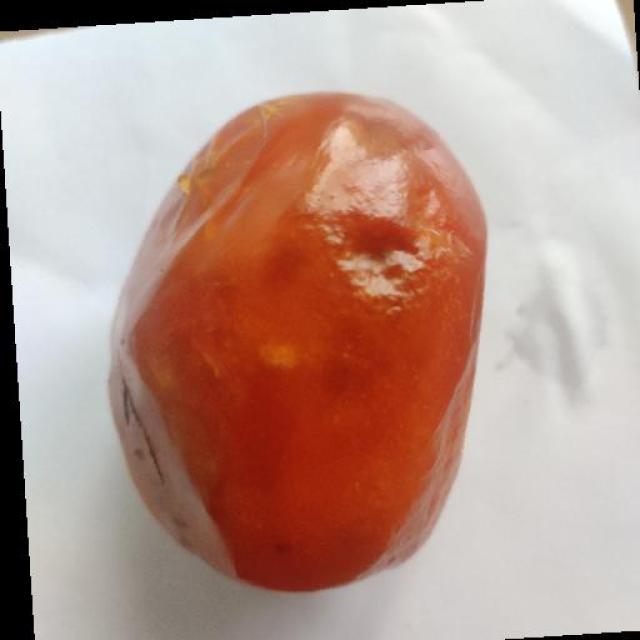Stale_tomato: (114, 80, 484, 620)
